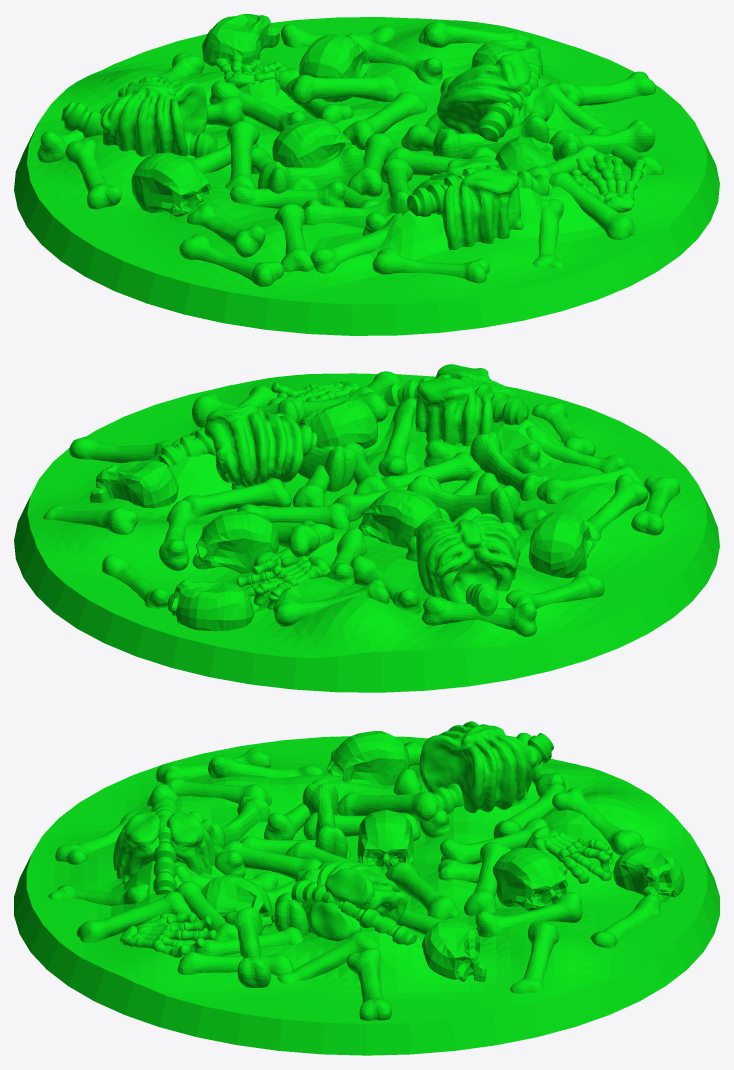
Rendered from EnemigoEliminado.glb.
The picture shows the model from 3 angles, top to bottom: view 1: azimuth 30°, elevation 25°; view 2: azimuth 150°, elevation 25°; view 3: azimuth 270°, elevation 25°; orthographic projection.
Visible parts, largest first — view 1: EnemigoEliminado; view 2: EnemigoEliminado; view 3: EnemigoEliminado.
Part boxes in pixels (x1,y1,x2,y2): EnemigoEliminado: (14,14,719,335); EnemigoEliminado: (14,364,719,692); EnemigoEliminado: (14,721,719,1055).
Bounding box in the file's own units: 61.11 × 9.58 × 61.
